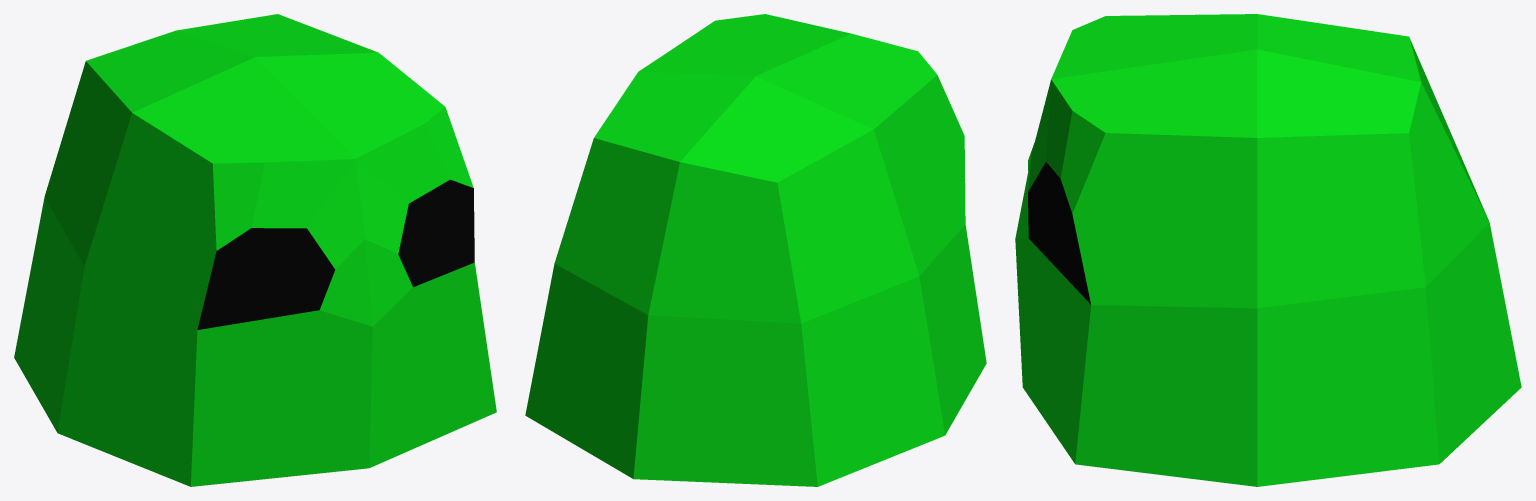
The model's file is SlimeBase.fbx.
The picture shows the model from 3 angles, left to right: view 1: azimuth 30°, elevation 25°; view 2: azimuth 150°, elevation 25°; view 3: azimuth 270°, elevation 25°; orthographic projection. The views are drawn at different scales.
Visible parts, largest first — view 1: Cube; view 2: Cube; view 3: Cube.
Part boxes in pixels (bbox=[...]): Cube: bbox=[14, 14, 496, 486]; Cube: bbox=[525, 14, 986, 486]; Cube: bbox=[1015, 14, 1521, 486].
Bounding box in the file's own units: 259 × 205 × 278.
